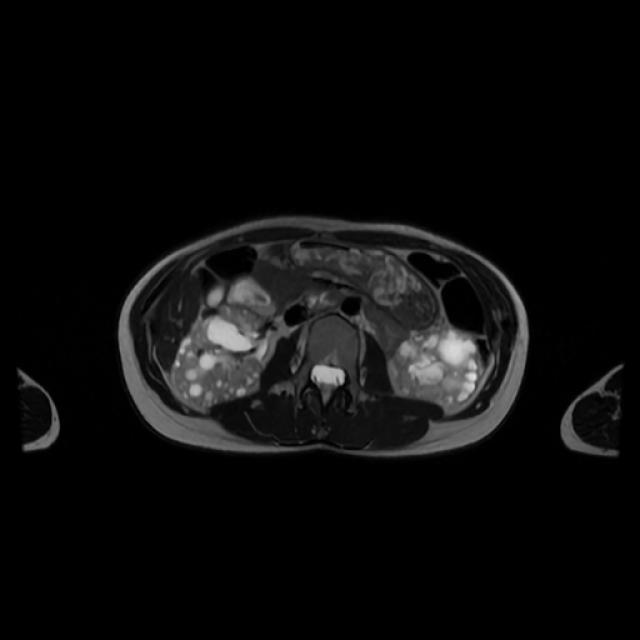sag: (176, 305, 263, 407)
sol: (398, 332, 481, 405)
